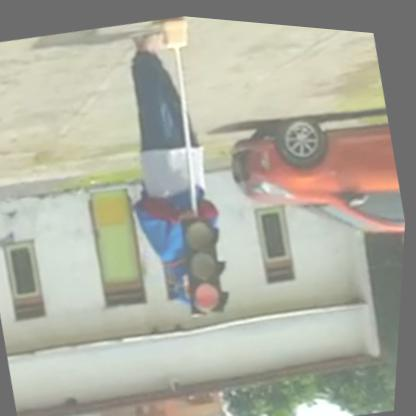red: (174, 209, 242, 316)
